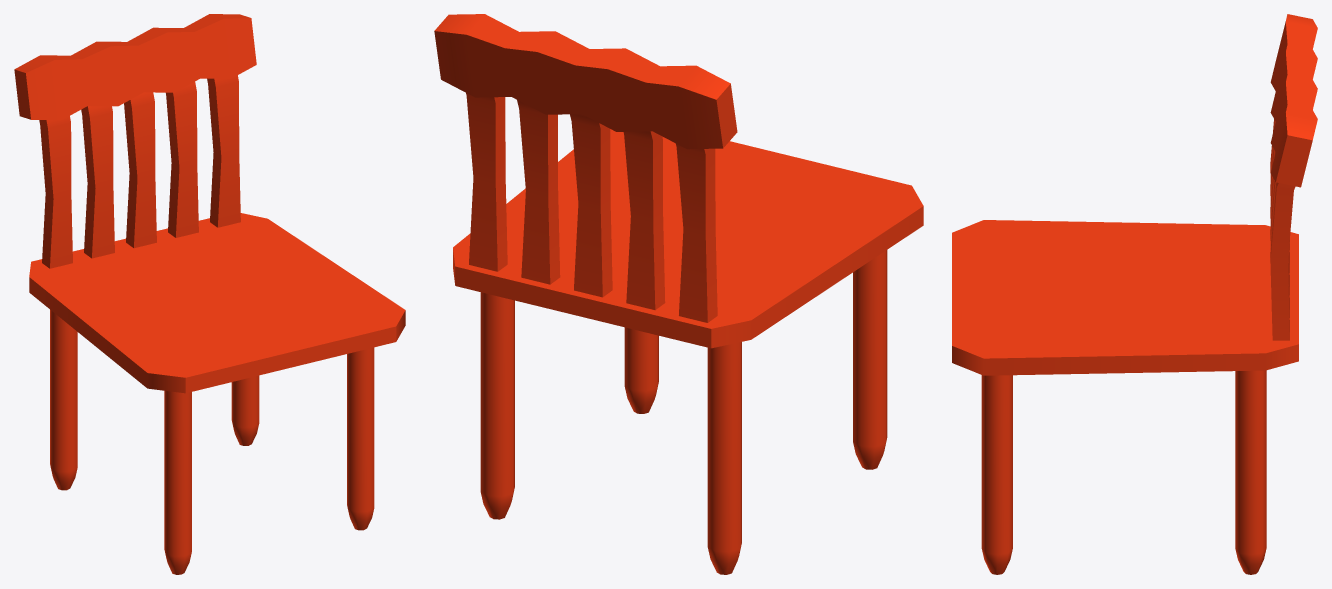
The model's file is NewChair.obj.
The picture shows the model from 3 angles, left to right: view 1: azimuth 30°, elevation 25°; view 2: azimuth 150°, elevation 25°; view 3: azimuth 270°, elevation 25°; orthographic projection. The views are drawn at different scales.
Visible parts, largest first — view 1: ChairSeat, ChairBack1 ChairBack2 ChairBack3 ChairBack4 ChairBack5, ChairLeg3 ChairLeg2 ChairLeg5 ChairLeg4, ChairBackTop; view 2: ChairSeat, ChairBack1 ChairBack2 ChairBack3 ChairBack4 ChairBack5, ChairLeg3 ChairLeg2 ChairLeg5 ChairLeg4, ChairBackTop; view 3: ChairSeat, ChairLeg3 ChairLeg2 ChairLeg5 ChairLeg4, ChairBackTop, ChairBack1 ChairBack2 ChairBack3 ChairBack4 ChairBack5.
Part boxes in pixels (box(x1,y1,x2,y2)): ChairSeat: box(29, 213, 405, 393); ChairBack1 ChairBack2 ChairBack3 ChairBack4 ChairBack5: box(39, 75, 240, 268); ChairLeg3 ChairLeg2 ChairLeg5 ChairLeg4: box(50, 310, 374, 574); ChairBackTop: box(14, 14, 256, 120); ChairSeat: box(453, 129, 923, 348); ChairBack1 ChairBack2 ChairBack3 ChairBack4 ChairBack5: box(466, 93, 717, 322); ChairLeg3 ChairLeg2 ChairLeg5 ChairLeg4: box(480, 250, 887, 574); ChairBackTop: box(434, 14, 737, 149); ChairSeat: box(952, 220, 1298, 375); ChairLeg3 ChairLeg2 ChairLeg5 ChairLeg4: box(981, 370, 1266, 574); ChairBackTop: box(1270, 14, 1317, 187); ChairBack1 ChairBack2 ChairBack3 ChairBack4 ChairBack5: box(1270, 119, 1295, 340).
Size of the model in its own units: 6.15 by 9.44 by 6.86.
